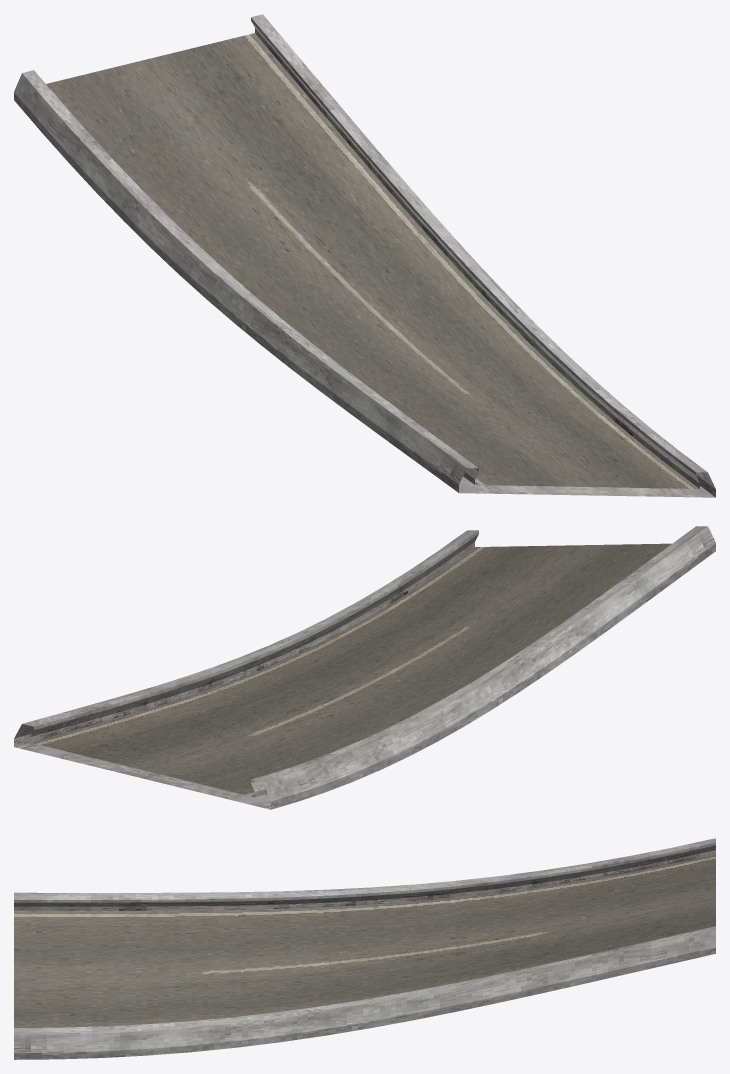
The model's file is road-Straight-HalfBankedRight-BiSlopeUp-Up2-Center-Size3.glb.
3 renders of one model, top to bottom at view 1: azimuth 30°, elevation 25°; view 2: azimuth 150°, elevation 25°; view 3: azimuth 270°, elevation 25°, orthographic. The views are drawn at different scales.
Parts seen in each view (by area): view 1: road-Straight-HalfBankedRight-BiSlopeUp-Up2-Center-Size3; view 2: road-Straight-HalfBankedRight-BiSlopeUp-Up2-Center-Size3; view 3: road-Straight-HalfBankedRight-BiSlopeUp-Up2-Center-Size3.
Part boxes in pixels (bbox=[...]): road-Straight-HalfBankedRight-BiSlopeUp-Up2-Center-Size3: bbox=[14, 14, 715, 497]; road-Straight-HalfBankedRight-BiSlopeUp-Up2-Center-Size3: bbox=[14, 526, 715, 809]; road-Straight-HalfBankedRight-BiSlopeUp-Up2-Center-Size3: bbox=[14, 838, 715, 1059].
Bounding box in the file's own units: 1 × 0.5937 × 3.
2 materials, 2 textured.
